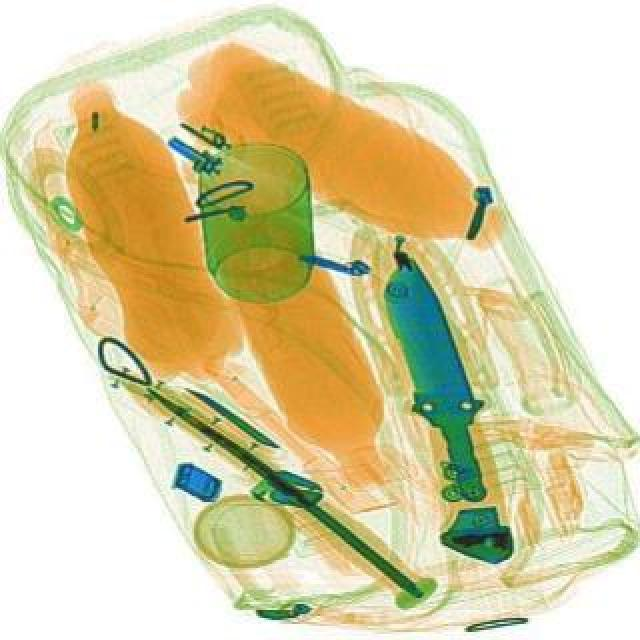knife: (136, 378, 428, 602), (364, 250, 510, 508)
